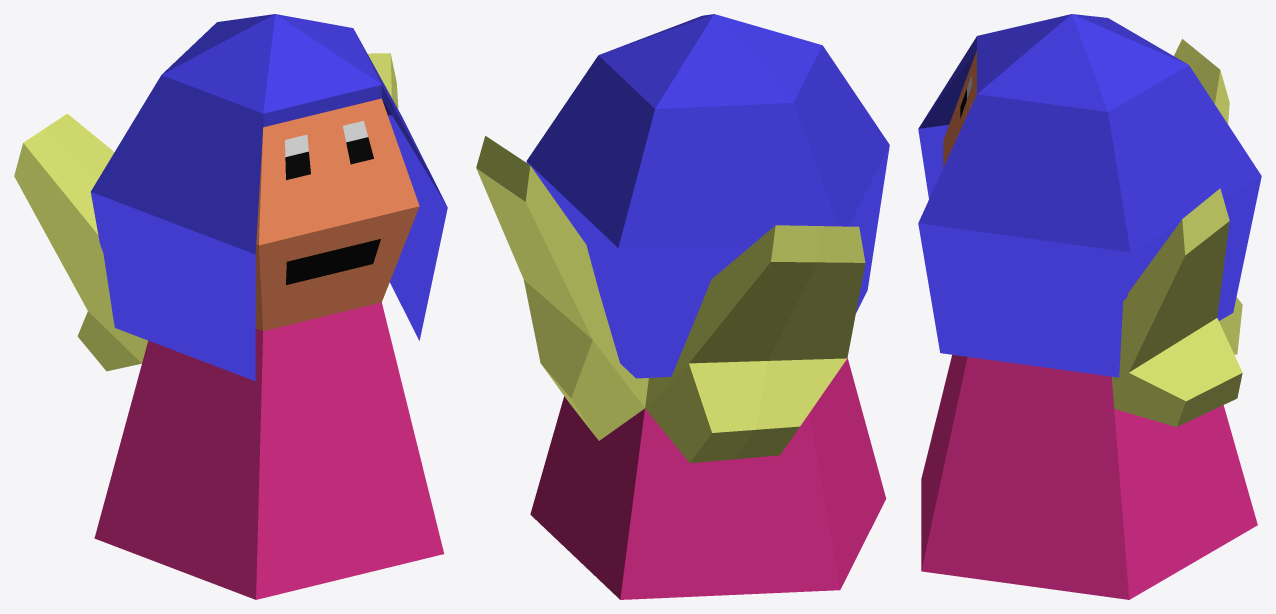
File: Pixie.glb
3 views of the same model, side by side, from view 1: azimuth 30°, elevation 25°; view 2: azimuth 150°, elevation 25°; view 3: azimuth 270°, elevation 25° (orthographic).
Parts seen in each view (by area): view 1: Circle; view 2: Circle; view 3: Circle.
Part boxes in pixels (x1,y1,x2,y2): Circle: (14,14,447,599); Circle: (476,14,889,599); Circle: (918,14,1261,599).
Size of the model in its own units: 2.39 by 3.03 by 1.85.
